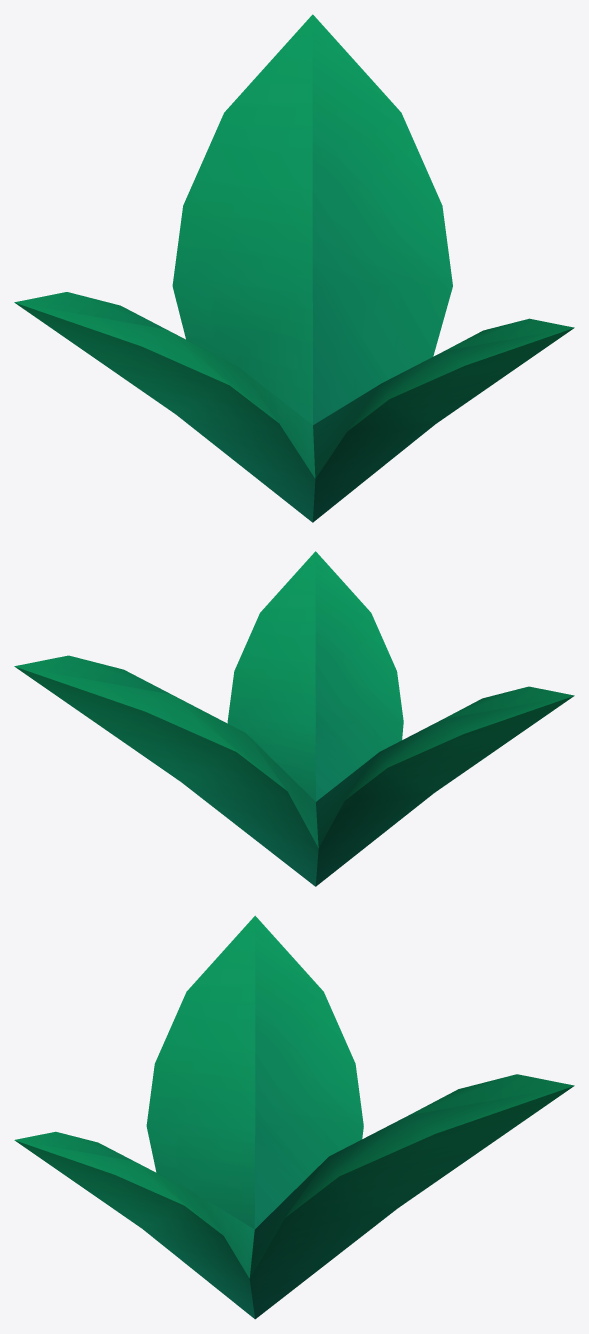
Rendered from kk_waterplant_v1.glb.
3 renders of one model, top to bottom at view 1: azimuth 30°, elevation 25°; view 2: azimuth 150°, elevation 25°; view 3: azimuth 270°, elevation 25°, orthographic. The views are drawn at different scales.
Visible parts, largest first — view 1: waterplant_A; view 2: waterplant_A; view 3: waterplant_A.
Part boxes in pixels (x1=…): waterplant_A: x1=14, y1=14, x2=574, y2=522; waterplant_A: x1=14, y1=551, x2=574, y2=886; waterplant_A: x1=14, y1=915, x2=574, y2=1319.
Size of the model in its own units: 0.1983 by 0.1323 by 0.2157.
Materials: 1 (1 with a texture image).
